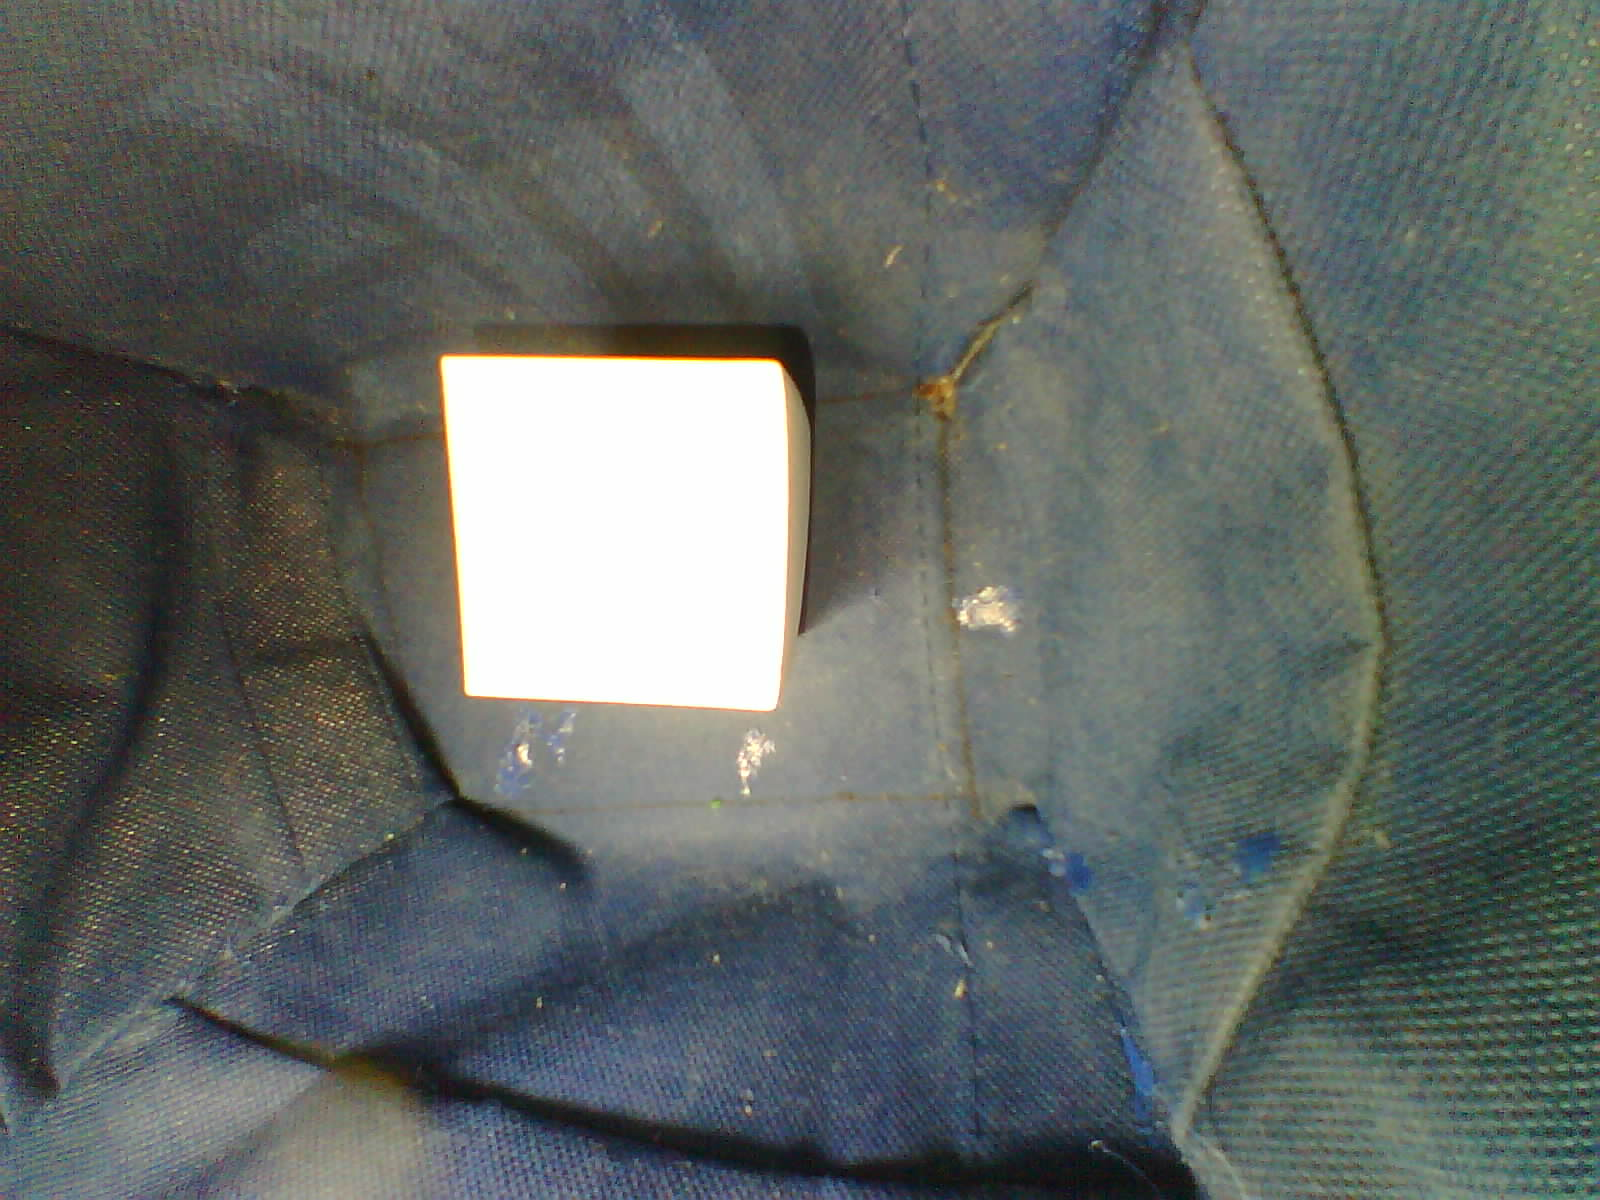cube-hard: (426, 329, 819, 744)
